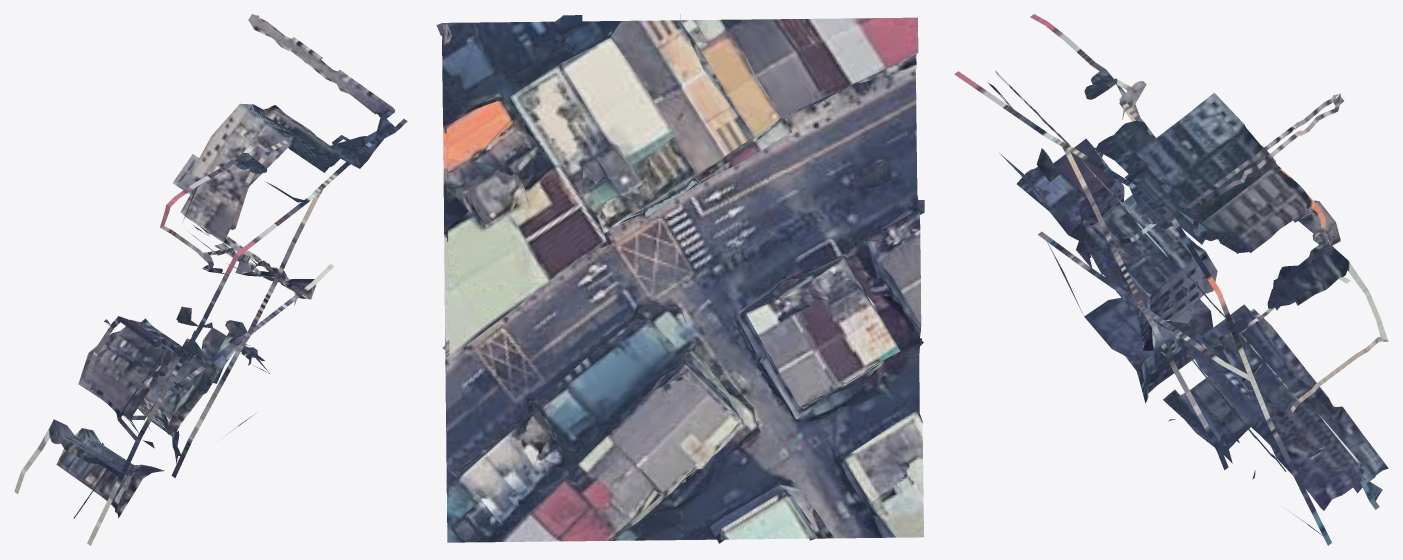
The picture shows the model from 3 angles, left to right: view 1: azimuth 30°, elevation 25°; view 2: azimuth 150°, elevation 25°; view 3: azimuth 270°, elevation 25°; orthographic projection. The views are drawn at different scales.
Bounding box in the file's own units: 84.58 × 84.5 × 74.06.
1 material, 1 textured.
